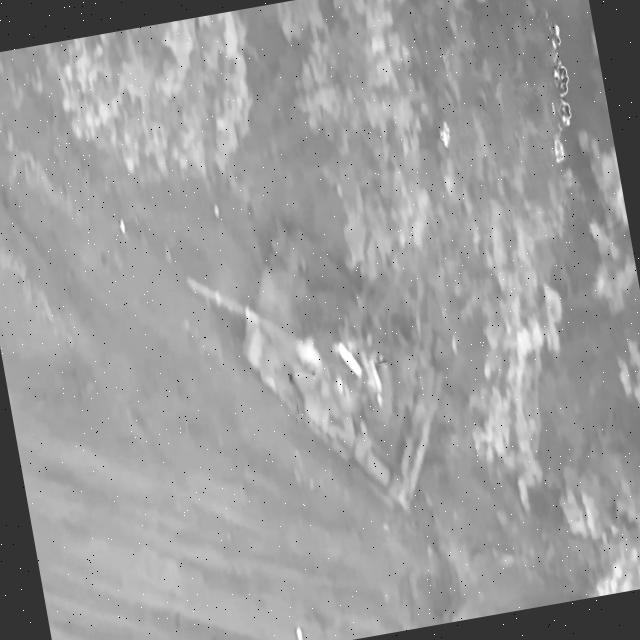MBT: (170, 148, 478, 549)
